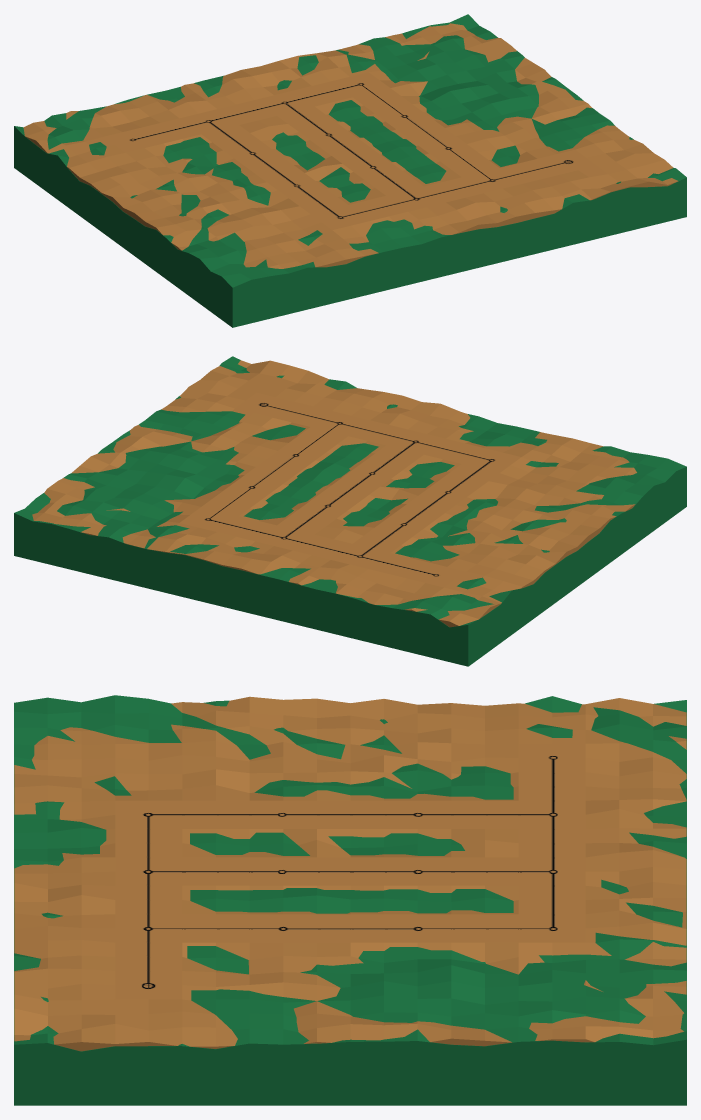
File: Nivell4.FBX
3 renders of one model, top to bottom at view 1: azimuth 30°, elevation 25°; view 2: azimuth 150°, elevation 25°; view 3: azimuth 270°, elevation 25°, orthographic. The views are drawn at different scales.
Parts seen in each view (by area): view 1: Plane003; view 2: Plane003; view 3: Plane003.
Part boxes in pixels (box(x1,y1,x2,y2)): Plane003: box(14, 14, 686, 327); Plane003: box(14, 356, 686, 666); Plane003: box(14, 695, 686, 1105).
Bounding box in the file's own units: 11.82 × 1.14 × 9.85.
